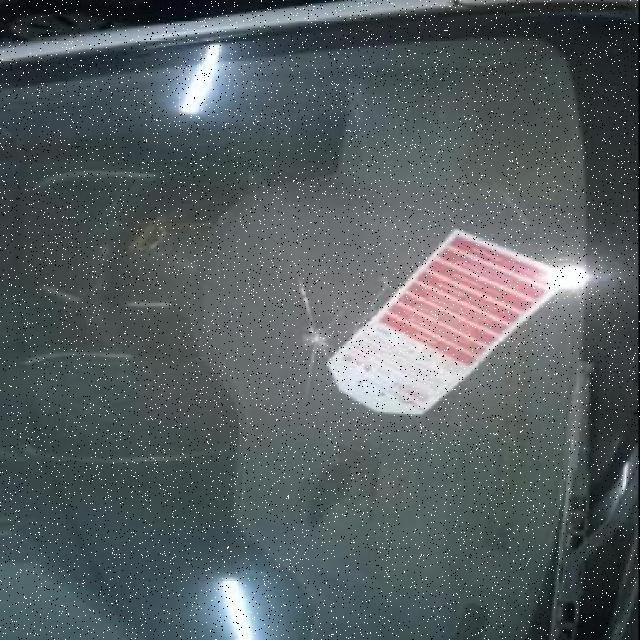damage: (276, 301, 356, 371)
